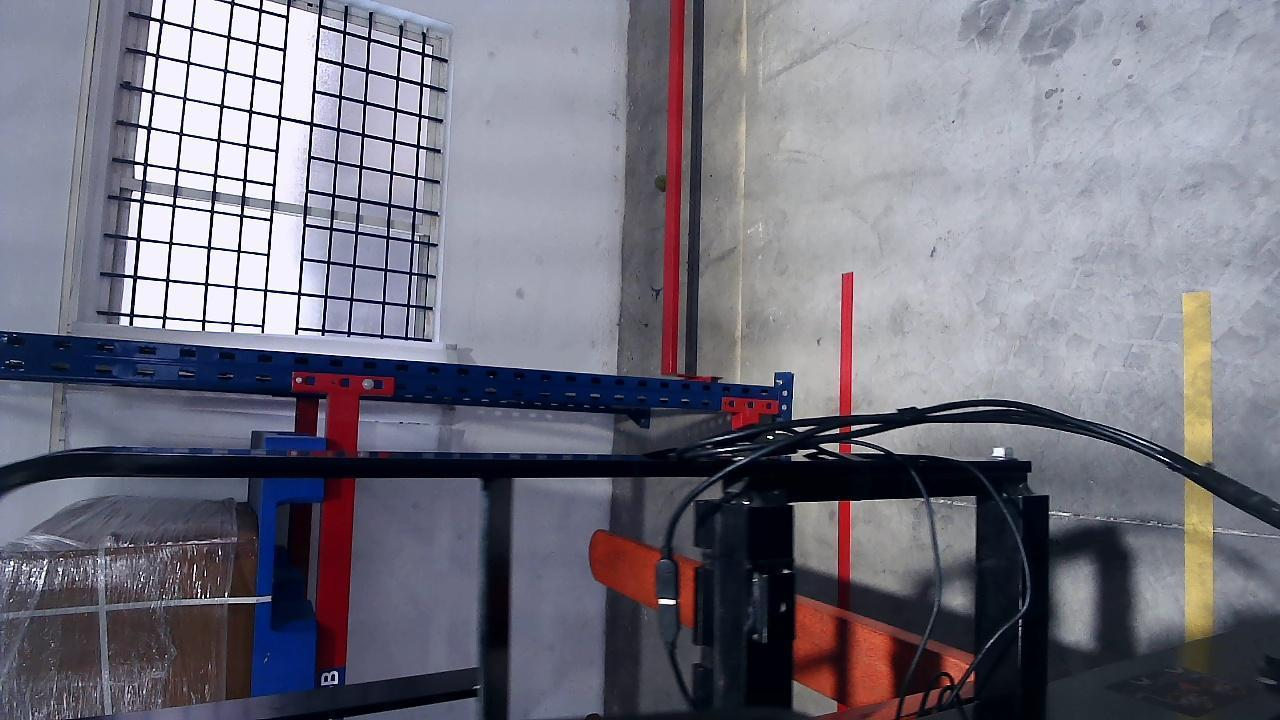red_line: (838, 271, 854, 587)
yellow_line: (1185, 291, 1215, 639)
